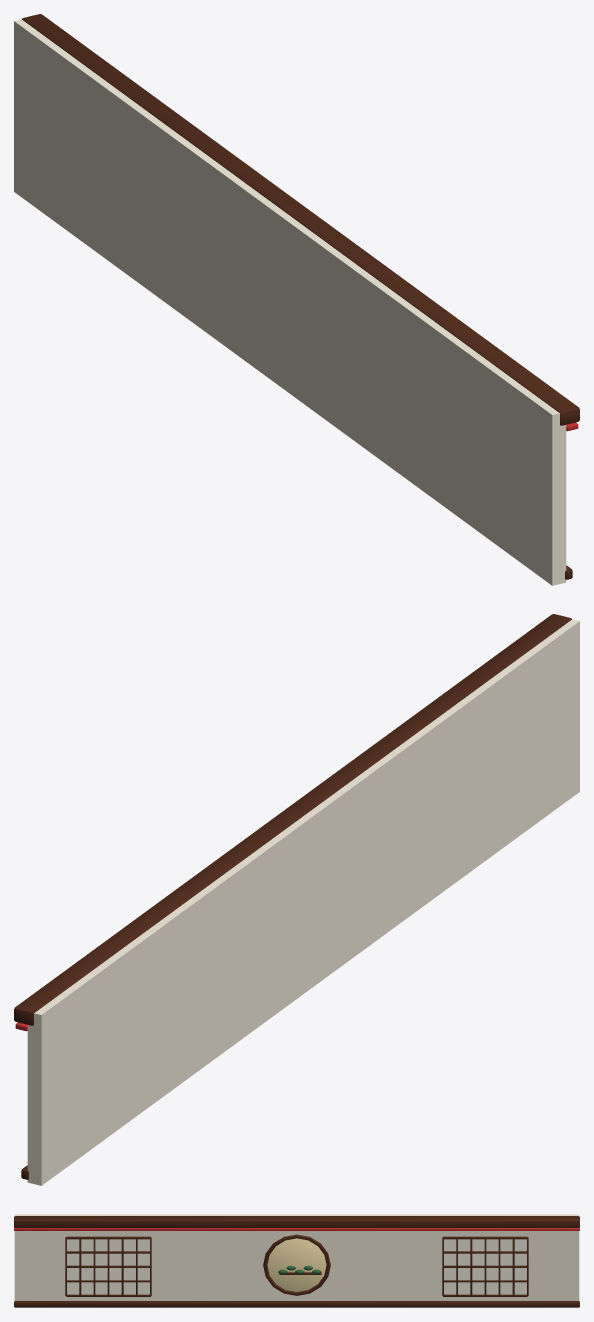
The model's file is WallZen.fbx.
The picture shows the model from 3 angles, top to bottom: view 1: azimuth 30°, elevation 25°; view 2: azimuth 150°, elevation 25°; view 3: azimuth 270°, elevation 25°; orthographic projection. The views are drawn at different scales.
Visible parts, largest first — view 1: WallZen; view 2: WallZen; view 3: WallZen.
Part boxes in pixels (x1,y1,x2,y2): WallZen: [14, 14, 579, 585]; WallZen: [14, 614, 579, 1185]; WallZen: [14, 1214, 579, 1307].
Bounding box in the file's own units: 240 × 1410 × 8020.
